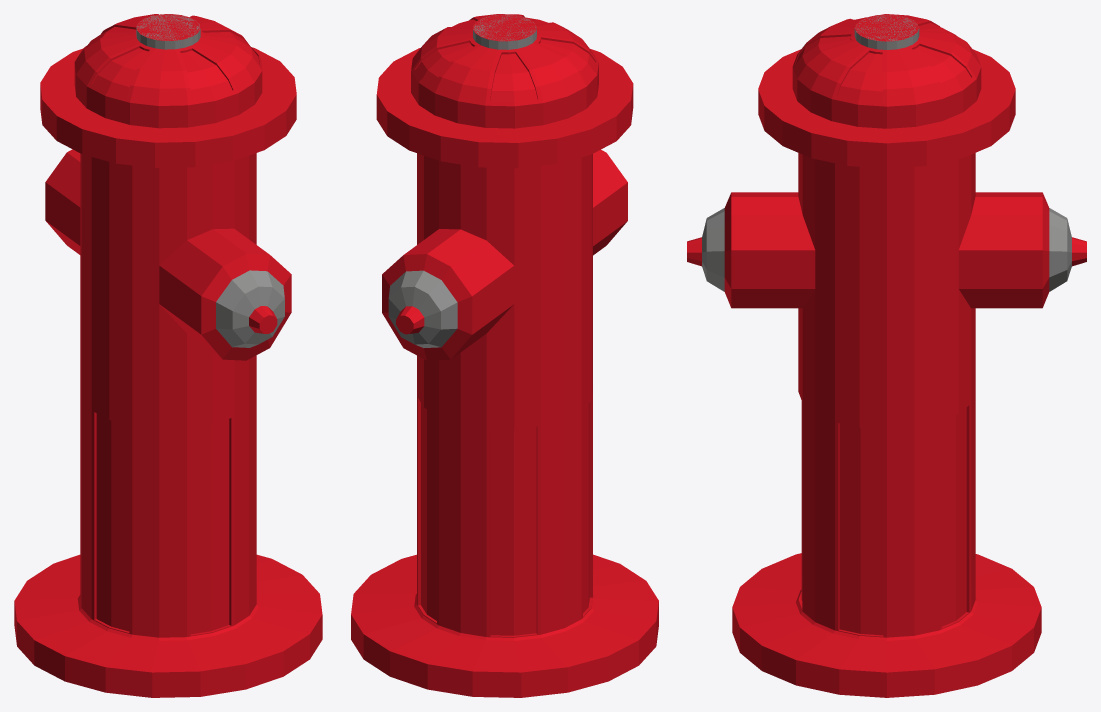
The model's file is FireHydrant.fbx.
3 views of the same model, side by side, from view 1: azimuth 30°, elevation 25°; view 2: azimuth 150°, elevation 25°; view 3: azimuth 270°, elevation 25° (orthographic).
Parts seen in each view (by area): view 1: FireHydrant; view 2: FireHydrant; view 3: FireHydrant.
Boxes of the visible parts, x1=… form: FireHydrant: x1=14, y1=14, x2=322, y2=697; FireHydrant: x1=351, y1=14, x2=658, y2=697; FireHydrant: x1=687, y1=14, x2=1086, y2=697.
Size of the model in its own units: 0.5242 by 0.6776 by 1.13.
Materials: 1 (1 with a texture image).
